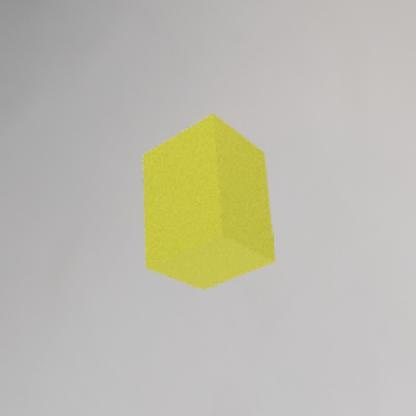yellow_cube: (140, 110, 276, 290)
